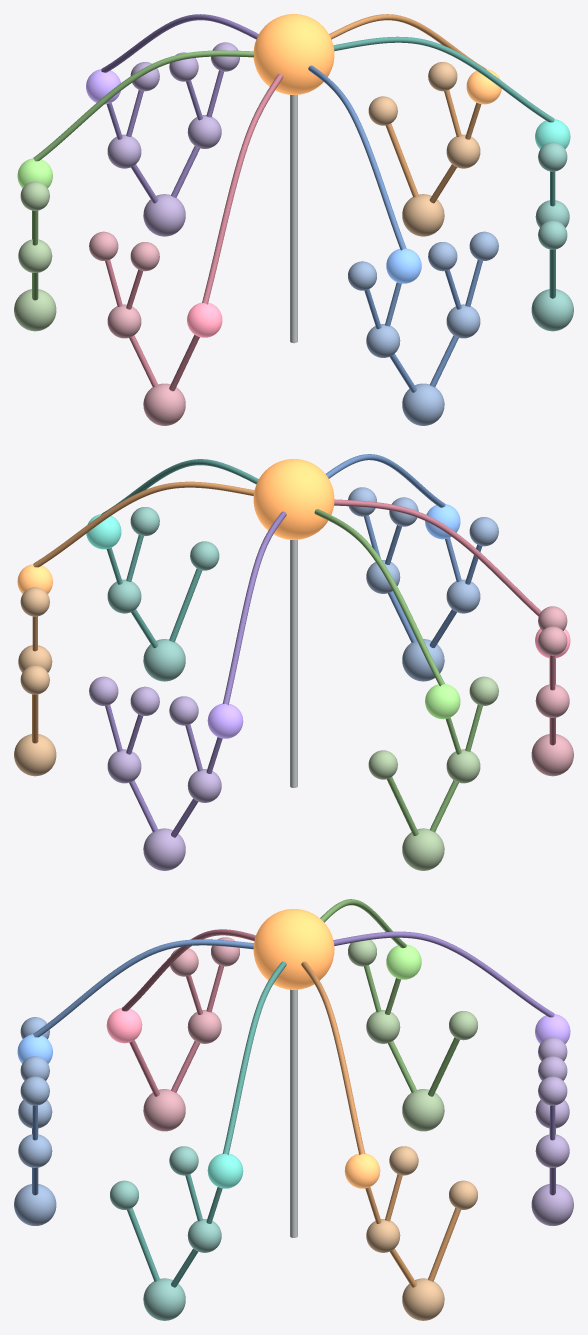
Rendered from random-forest-3d.glb.
3 views of the same model, one above another, from view 1: azimuth 30°, elevation 25°; view 2: azimuth 150°, elevation 25°; view 3: azimuth 270°, elevation 25° (orthographic).
Visible parts, largest first — view 1: leaf (×13), root (×6), split (×8), predicted_leaf (×6), mean_prediction, center_stem, vote_5, vote_6, vote_2, vote_1, vote_4, vote_3 (+1 smaller); view 2: leaf (×14), root (×6), split (×8), mean_prediction, predicted_leaf (×5), center_stem, vote_3, vote_6, vote_5, vote_4, vote_2, vote_1 (+1 smaller); view 3: root (×6), leaf (×13), split (×8), predicted_leaf (×6), mean_prediction, center_stem, vote_1, vote_4, vote_2, vote_3, vote_6, vote_5.
Boxes of the visible parts, x1,y1,x2,y2 form: leaf (×13): [20, 42, 567, 290]; root (×6): [14, 194, 573, 425]; split (×8): [18, 115, 569, 357]; predicted_leaf (×6): [17, 69, 570, 337]; mean_prediction: [253, 14, 334, 94]; center_stem: [290, 95, 297, 343]; vote_5: [33, 50, 254, 161]; vote_6: [202, 73, 283, 304]; vote_2: [333, 36, 554, 122]; vote_1: [308, 65, 406, 250]; vote_4: [101, 14, 258, 72]; vote_3: [329, 14, 486, 69]; leaf (×14): [20, 487, 567, 779]; root (×6): [14, 639, 573, 870]; split (×8): [18, 560, 569, 802]; mean_prediction: [253, 459, 334, 539]; predicted_leaf (×5): [17, 504, 460, 738]; center_stem: [290, 540, 297, 787]; vote_3: [33, 481, 254, 567]; vote_6: [334, 499, 541, 616]; vote_5: [314, 509, 444, 686]; vote_4: [222, 511, 286, 705]; vote_2: [101, 459, 258, 514]; vote_1: [325, 454, 445, 507]; root (×6): [14, 1089, 573, 1320]; leaf (×13): [20, 937, 567, 1209]; split (×8): [18, 1010, 569, 1252]; predicted_leaf (×6): [17, 944, 570, 1188]; mean_prediction: [253, 909, 334, 989]; center_stem: [290, 989, 297, 1237]; vote_1: [33, 939, 253, 1037]; vote_4: [333, 931, 554, 1017]; vote_2: [222, 961, 286, 1154]; vote_3: [301, 961, 365, 1154]; vote_6: [122, 929, 255, 1011]; vote_5: [320, 899, 406, 948].
Bounding box in the file's own units: 0.2853 × 0.185 × 0.29.
